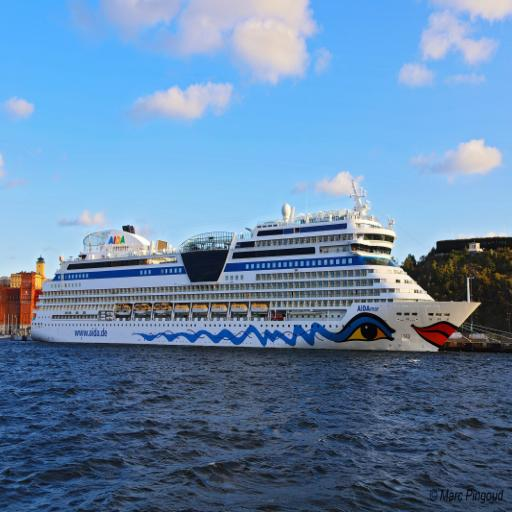cruises: (30, 179, 485, 359)
